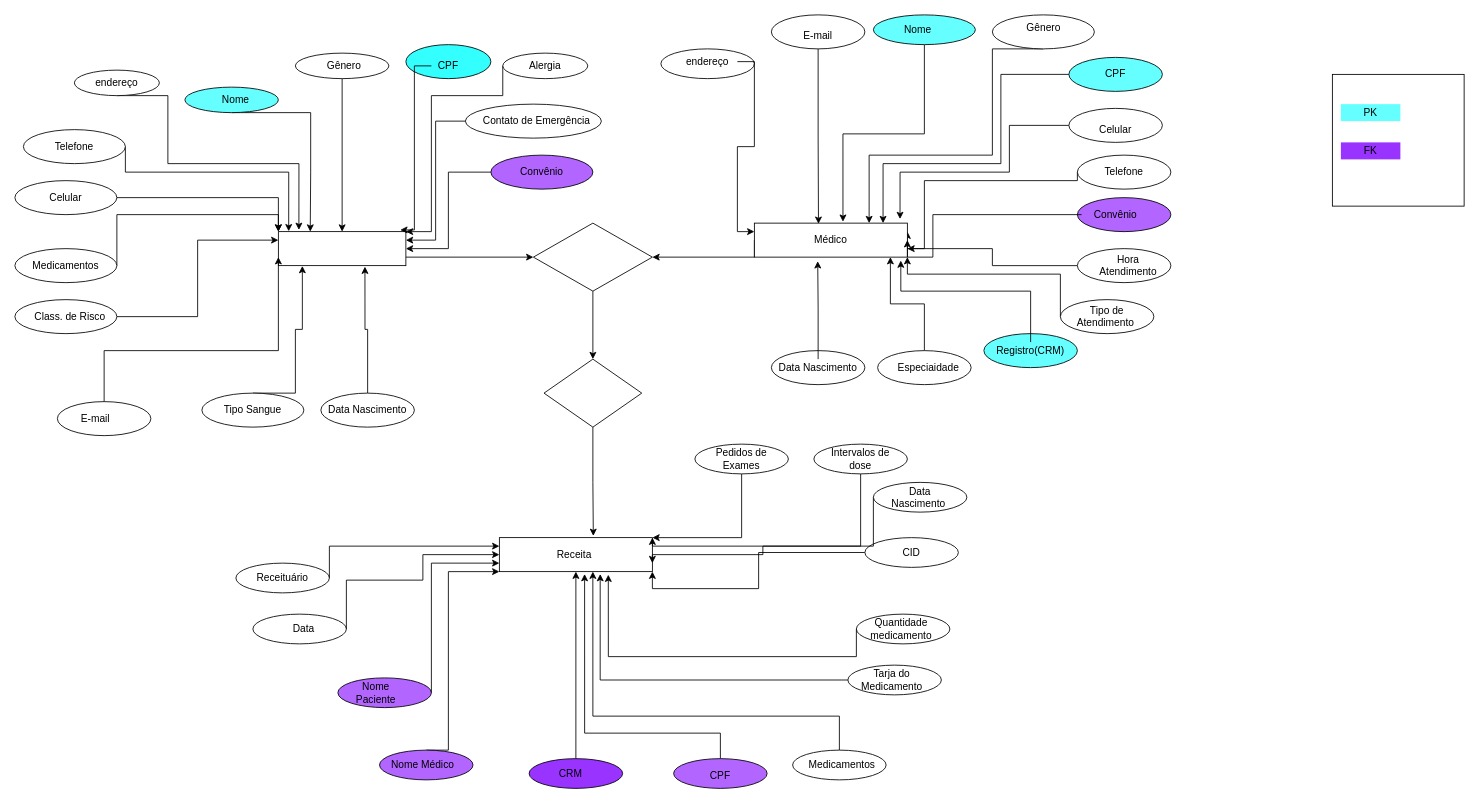
Image size: 1479x803. Some labels were removed from this diagram. Each missing label, with the box of its shape:
Consulta: (533, 222, 652, 291)
Gera: (543, 358, 642, 427)
Paciente: (278, 231, 406, 266)
